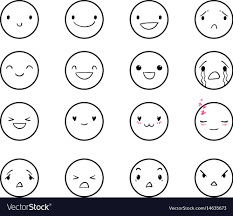feliz: (61, 2, 104, 41), (127, 51, 169, 90), (127, 2, 169, 40), (62, 50, 104, 88), (64, 102, 106, 140), (1, 2, 42, 40), (1, 51, 42, 89)
triste: (188, 48, 233, 91), (188, 97, 233, 140), (124, 156, 168, 199), (59, 153, 103, 196), (188, 155, 232, 198), (1, 153, 44, 196), (188, 1, 233, 42)
